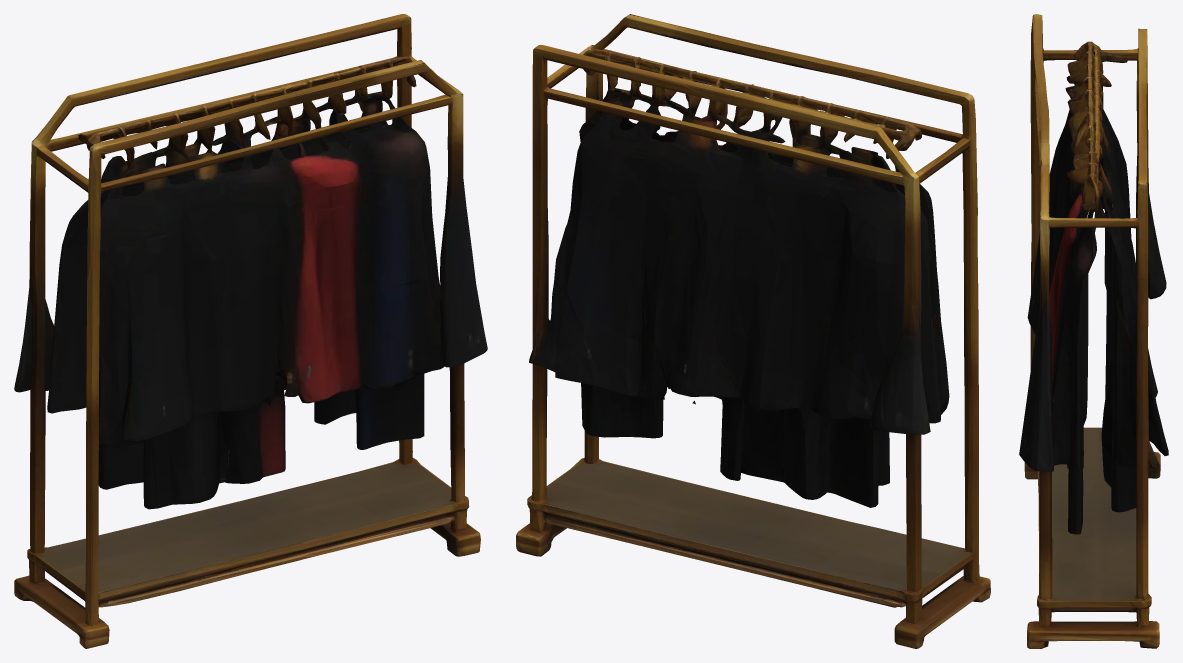
3 renders of one model, left to right at view 1: azimuth 30°, elevation 25°; view 2: azimuth 150°, elevation 25°; view 3: azimuth 270°, elevation 25°, orthographic. The views are drawn at different scales.
Visible parts, largest first — view 1: geometry_0; view 2: geometry_0; view 3: geometry_0.
Part boxes in pixels (x1,y1,x2,y2): geometry_0: (14,14,487,648); geometry_0: (516,14,990,648); geometry_0: (1019,14,1168,648).
Size of the model in its own units: 0.8758 by 0.9995 by 0.2934.
Materials: 1 (1 with a texture image).
